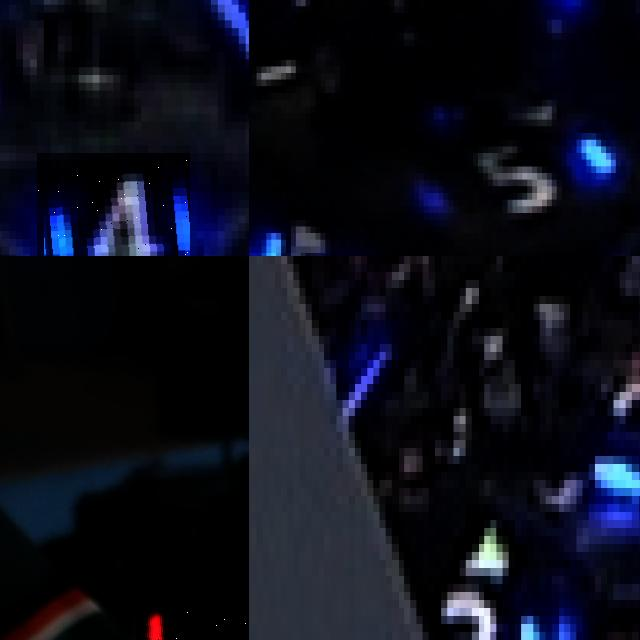B3: (589, 328, 640, 512), (416, 584, 539, 640)
B4: (37, 153, 190, 256)
B5: (256, 213, 354, 256)
Rs: (136, 597, 249, 640)
